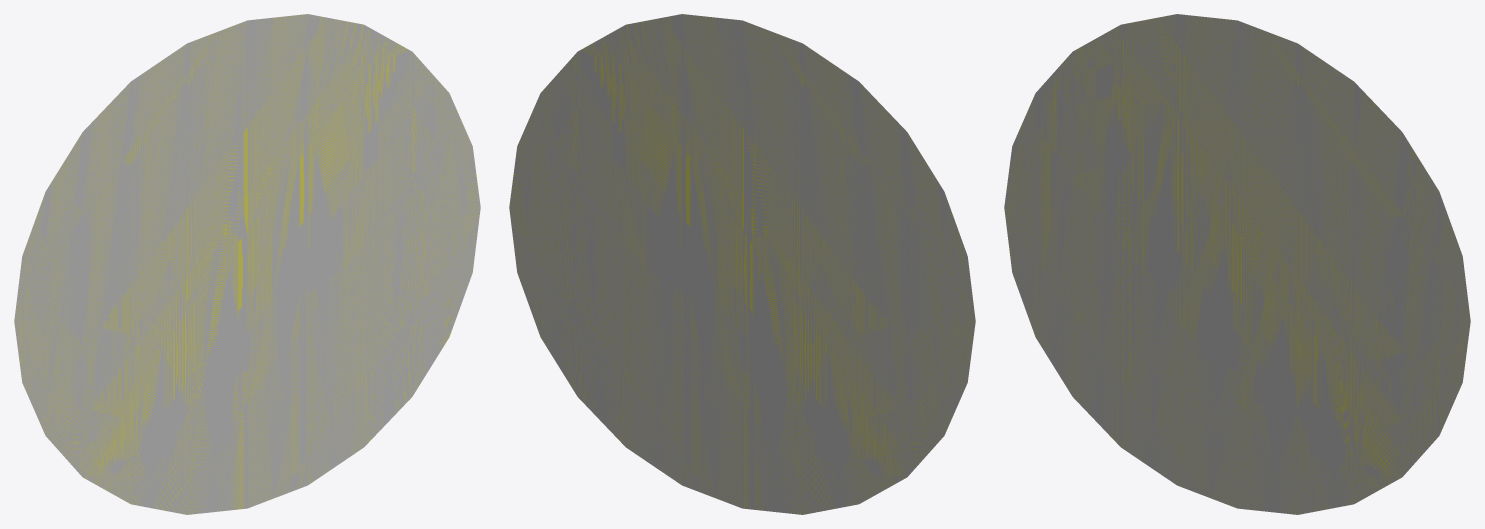
Rendered from original-52.obj.
3 views of the same model, side by side, from view 1: azimuth 30°, elevation 25°; view 2: azimuth 150°, elevation 25°; view 3: azimuth 330°, elevation 25° (orthographic).
Parts seen in each view (by area): view 1: mesh20/mesh20-geometry/material_3/component_1#mesh20-geometry; view 2: mesh20/mesh20-geometry/material_3/component_1#mesh20-geometry; view 3: mesh20/mesh20-geometry/material_3/component_1#mesh20-geometry.
Part boxes in pixels (x1=…): mesh20/mesh20-geometry/material_3/component_1#mesh20-geometry: x1=14, y1=14, x2=480, y2=514; mesh20/mesh20-geometry/material_3/component_1#mesh20-geometry: x1=509, y1=14, x2=975, y2=514; mesh20/mesh20-geometry/material_3/component_1#mesh20-geometry: x1=1004, y1=14, x2=1470, y2=514.
Bounding box in the file's own units: 0.0404 × 0.0404 × 0.
